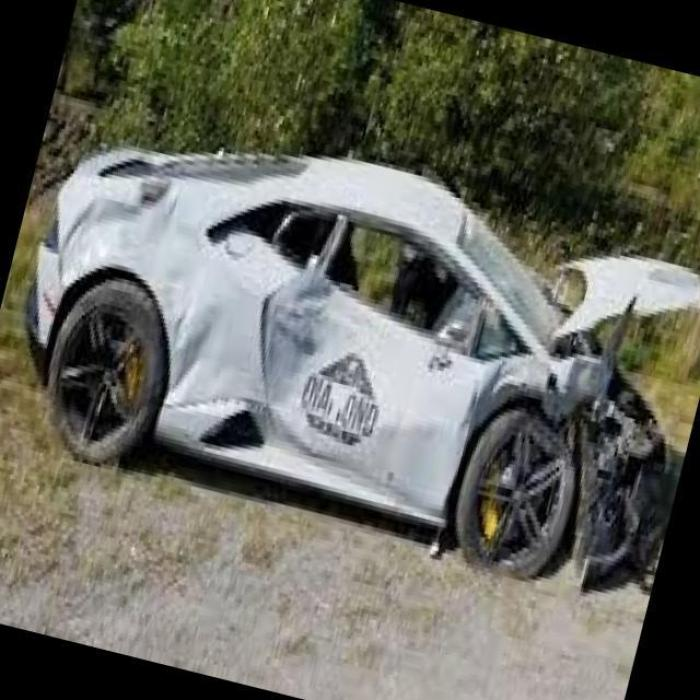Accident: (0, 43, 700, 638)
